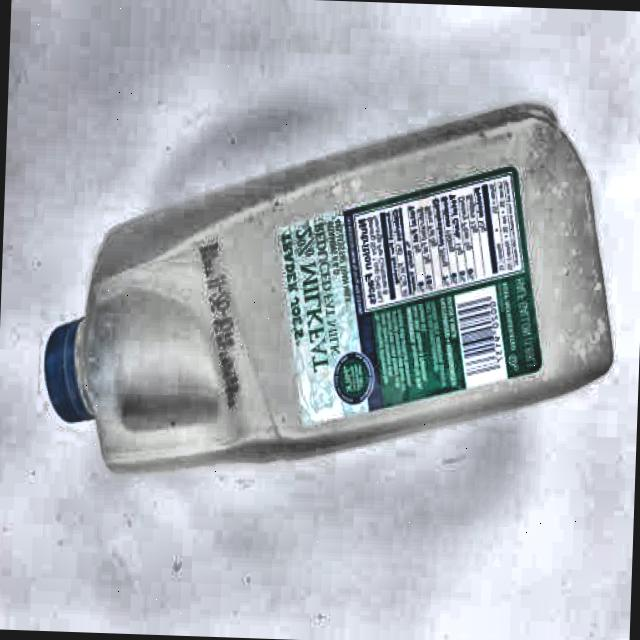plastic: (40, 81, 620, 490)
